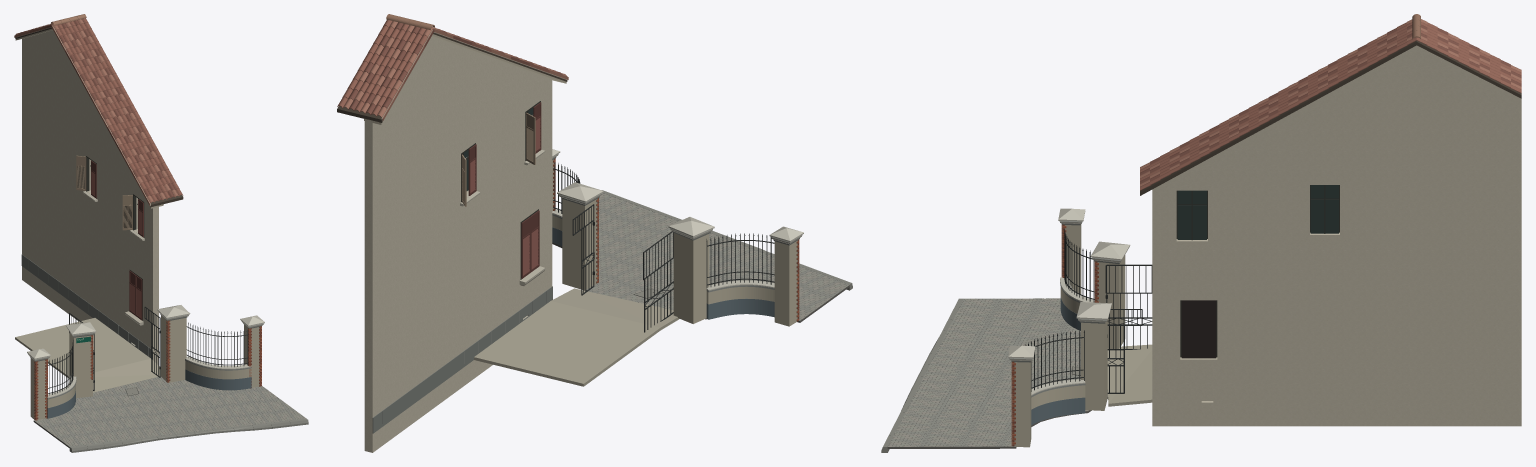
Rendered from huangpu-hefei-592-east-lane-house-raw.glb.
3 renders of one model, left to right at view 1: azimuth 30°, elevation 25°; view 2: azimuth 150°, elevation 25°; view 3: azimuth 270°, elevation 25°, orthographic. The views are drawn at different scales.
Parts seen in each view (by area): view 1: 合肥路592弄弄口与东侧山墙; view 2: 合肥路592弄弄口与东侧山墙; view 3: 合肥路592弄弄口与东侧山墙.
Boxes of the visible parts, left/top/right/bottom form: 合肥路592弄弄口与东侧山墙: left=14, top=14, right=308, bottom=452; 合肥路592弄弄口与东侧山墙: left=337, top=14, right=852, bottom=452; 合肥路592弄弄口与东侧山墙: left=881, top=14, right=1521, bottom=452.
Bounding box in the file's own units: 9.19 × 11.82 × 16.98.
Materials: 41 (1 with a texture image).
